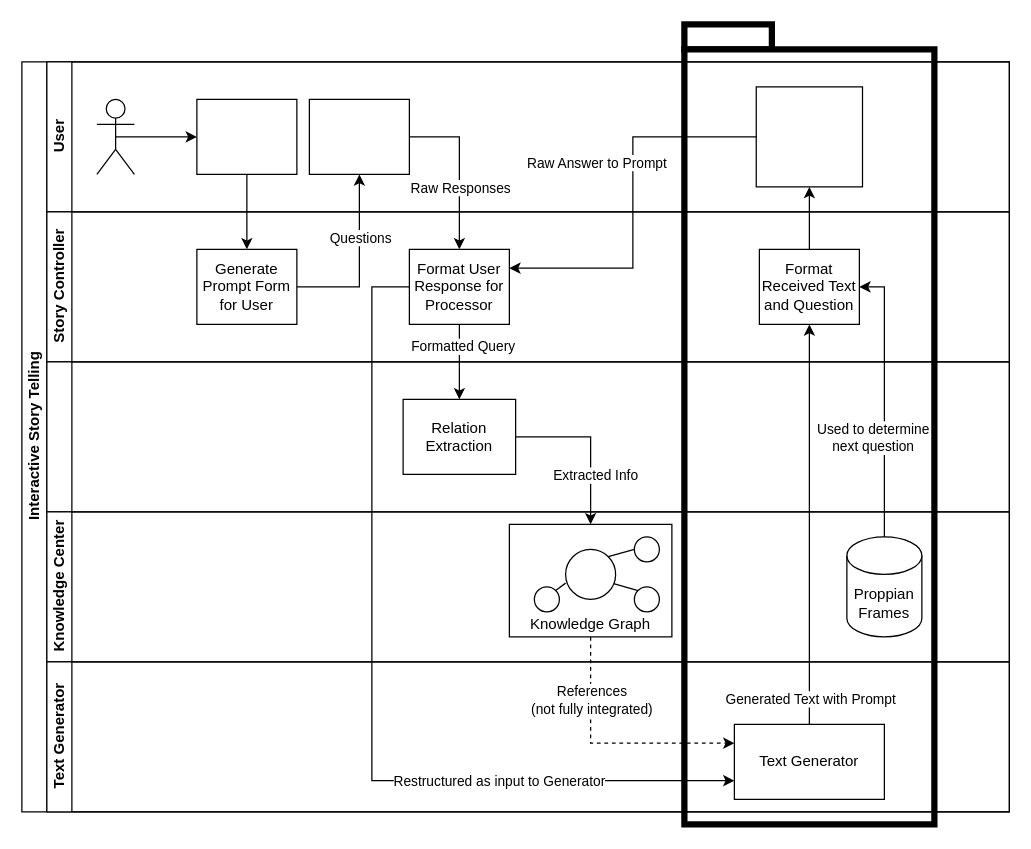
The diagram is 1031 pixels wide and 849 high, and some of its shapes have lost their labels. The box of each missing label's shape, as (x1, y1, x2, y2) in pixels:
Answer Prompt Questions: (308, 98, 409, 174)
Display Generated Text to User and Ask Question: (755, 86, 862, 187)
REPEATS: (681, 21, 774, 52)
Request New Story: (196, 98, 297, 174)
Text Processor: (46, 361, 1009, 512)
